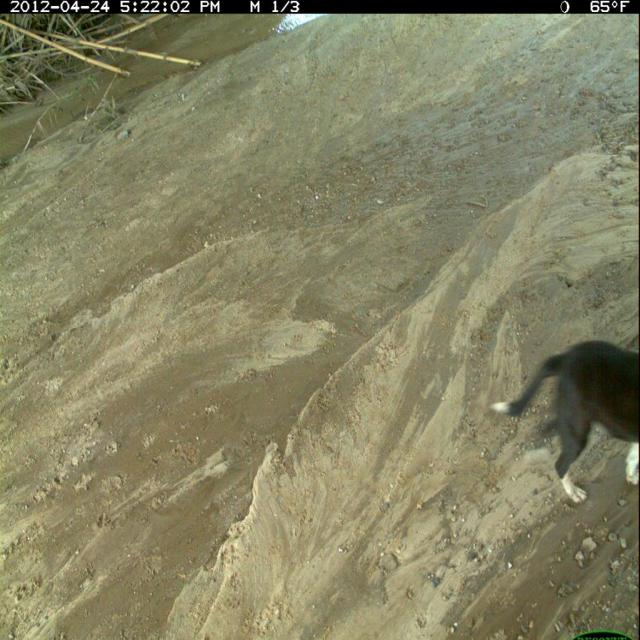dog: (489, 338, 640, 508)
